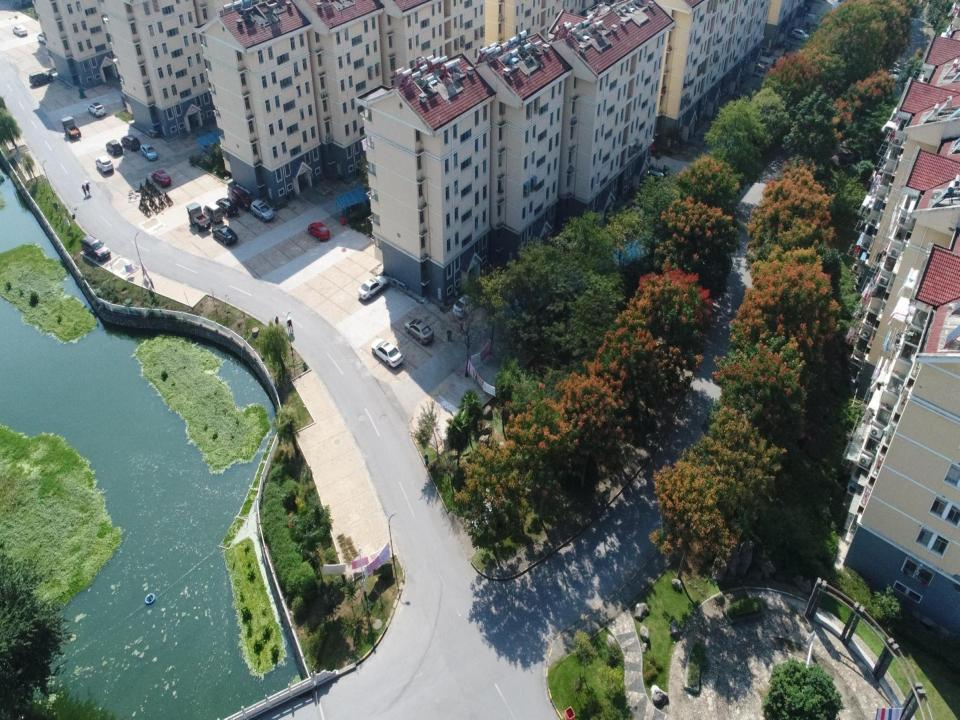car: (371, 338, 404, 367), (404, 317, 434, 345), (81, 234, 111, 262), (357, 275, 387, 301), (452, 294, 480, 318), (251, 198, 275, 224), (212, 224, 238, 248), (231, 186, 252, 212), (307, 221, 330, 243), (215, 197, 239, 218), (28, 70, 54, 88), (151, 169, 171, 188), (120, 134, 141, 152), (140, 142, 158, 162), (95, 156, 114, 174), (790, 27, 811, 43), (105, 138, 123, 156), (87, 101, 106, 117), (888, 66, 903, 84), (36, 30, 51, 46), (17, 21, 28, 39)
truck: (185, 202, 210, 231), (60, 116, 82, 140)
van: (202, 202, 223, 224)
